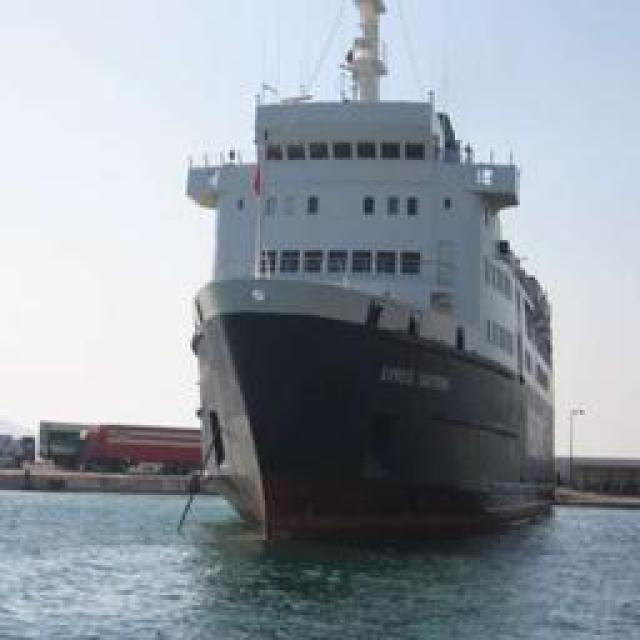Ship: (180, 51, 565, 541)
